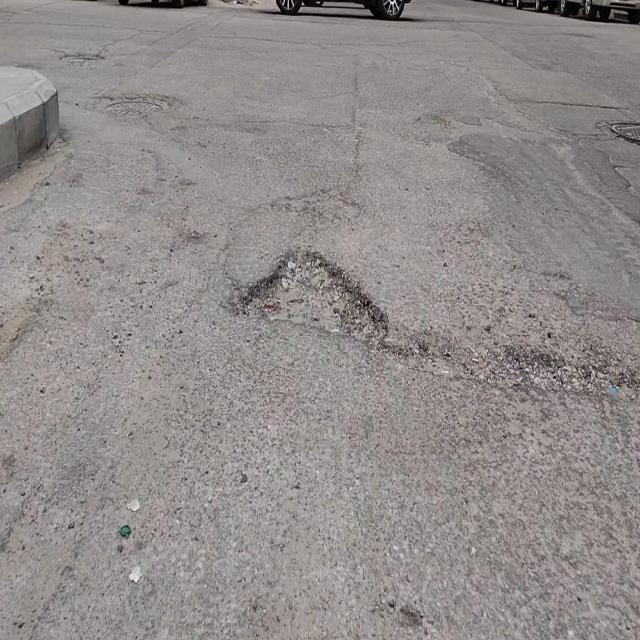Pothole: (239, 245, 389, 350)
